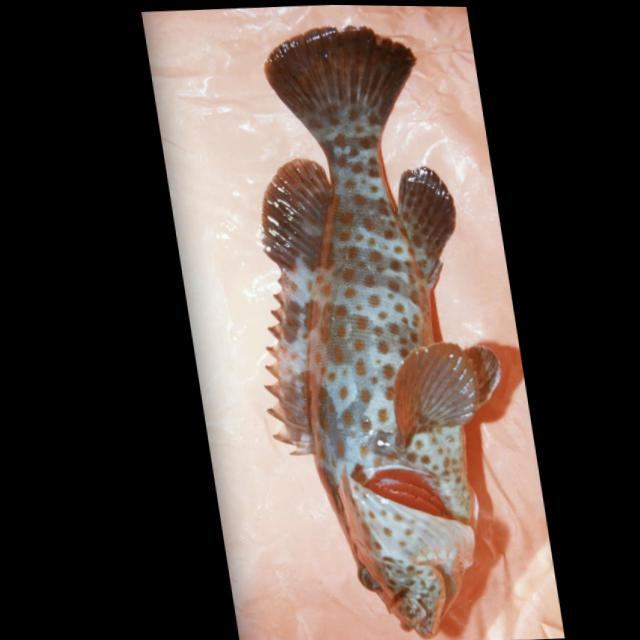Groupers: (205, 17, 544, 640)
